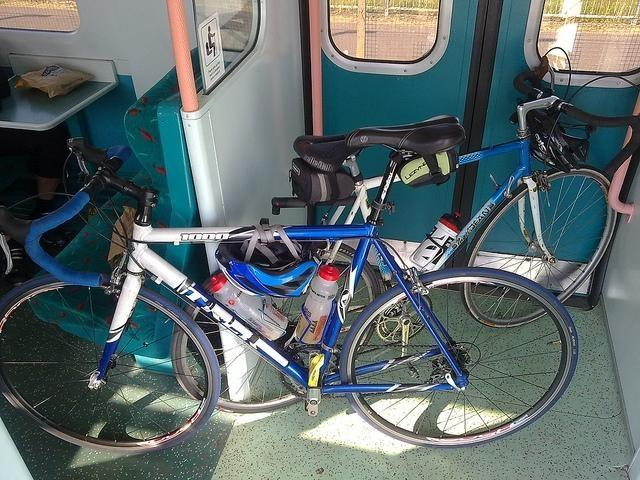bicycle: (1, 116, 575, 452), (419, 65, 634, 302)
